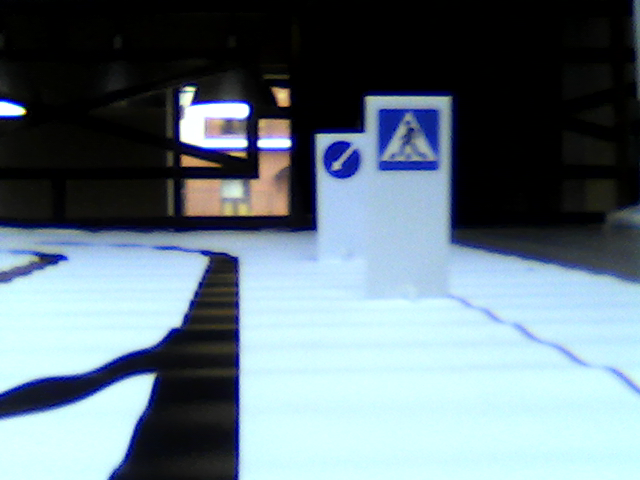pesh: (377, 108, 443, 172)
prep: (323, 139, 360, 177)
